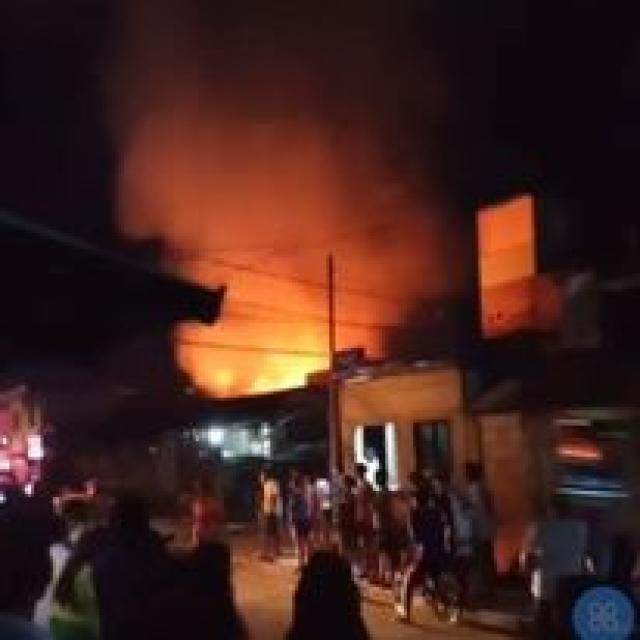Fire: (188, 238, 357, 395)
Smoke: (87, 0, 450, 336)
